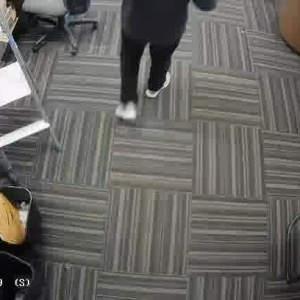person: (106, 0, 202, 119)
